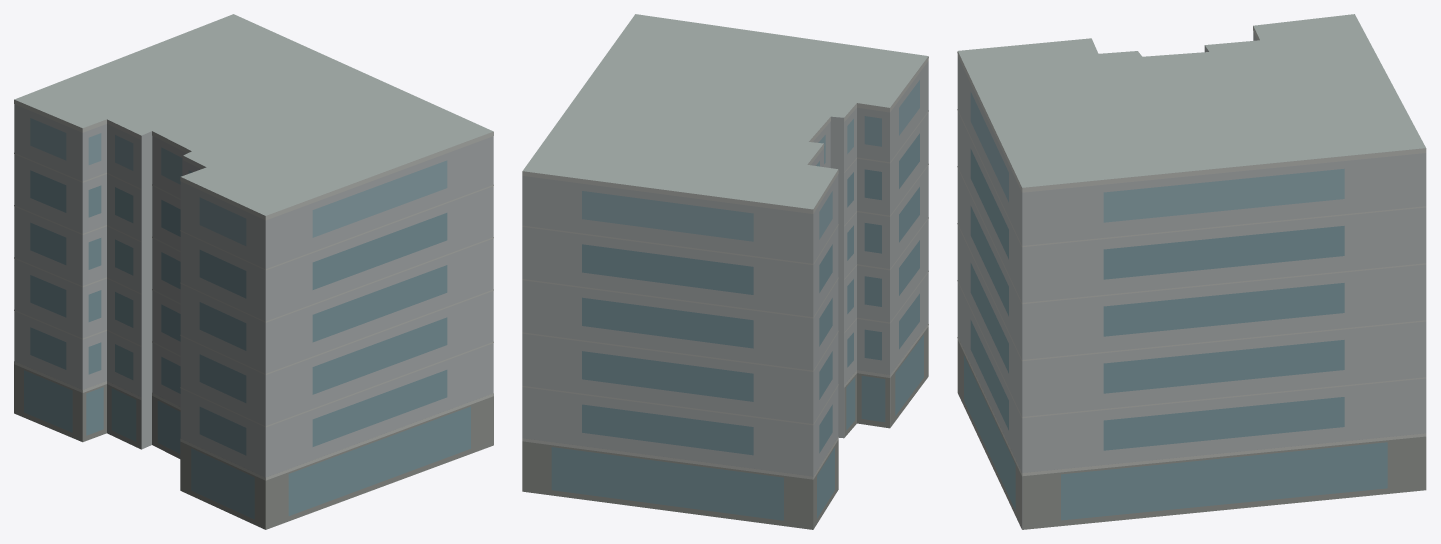
File: survey-upis-32851609.glb
3 renders of one model, left to right at view 1: azimuth 30°, elevation 25°; view 2: azimuth 150°, elevation 25°; view 3: azimuth 270°, elevation 25°, orthographic. The views are drawn at different scales.
Parts seen in each view (by area): view 1: survey-upis-32851609.tmp; view 2: survey-upis-32851609.tmp; view 3: survey-upis-32851609.tmp.
Part boxes in pixels (box(x1,y1,x2,y2)): survey-upis-32851609.tmp: box(14, 14, 493, 529); survey-upis-32851609.tmp: box(522, 14, 928, 529); survey-upis-32851609.tmp: box(957, 14, 1426, 529).
Bounding box in the file's own units: 18.33 × 16.8 × 20.88.
